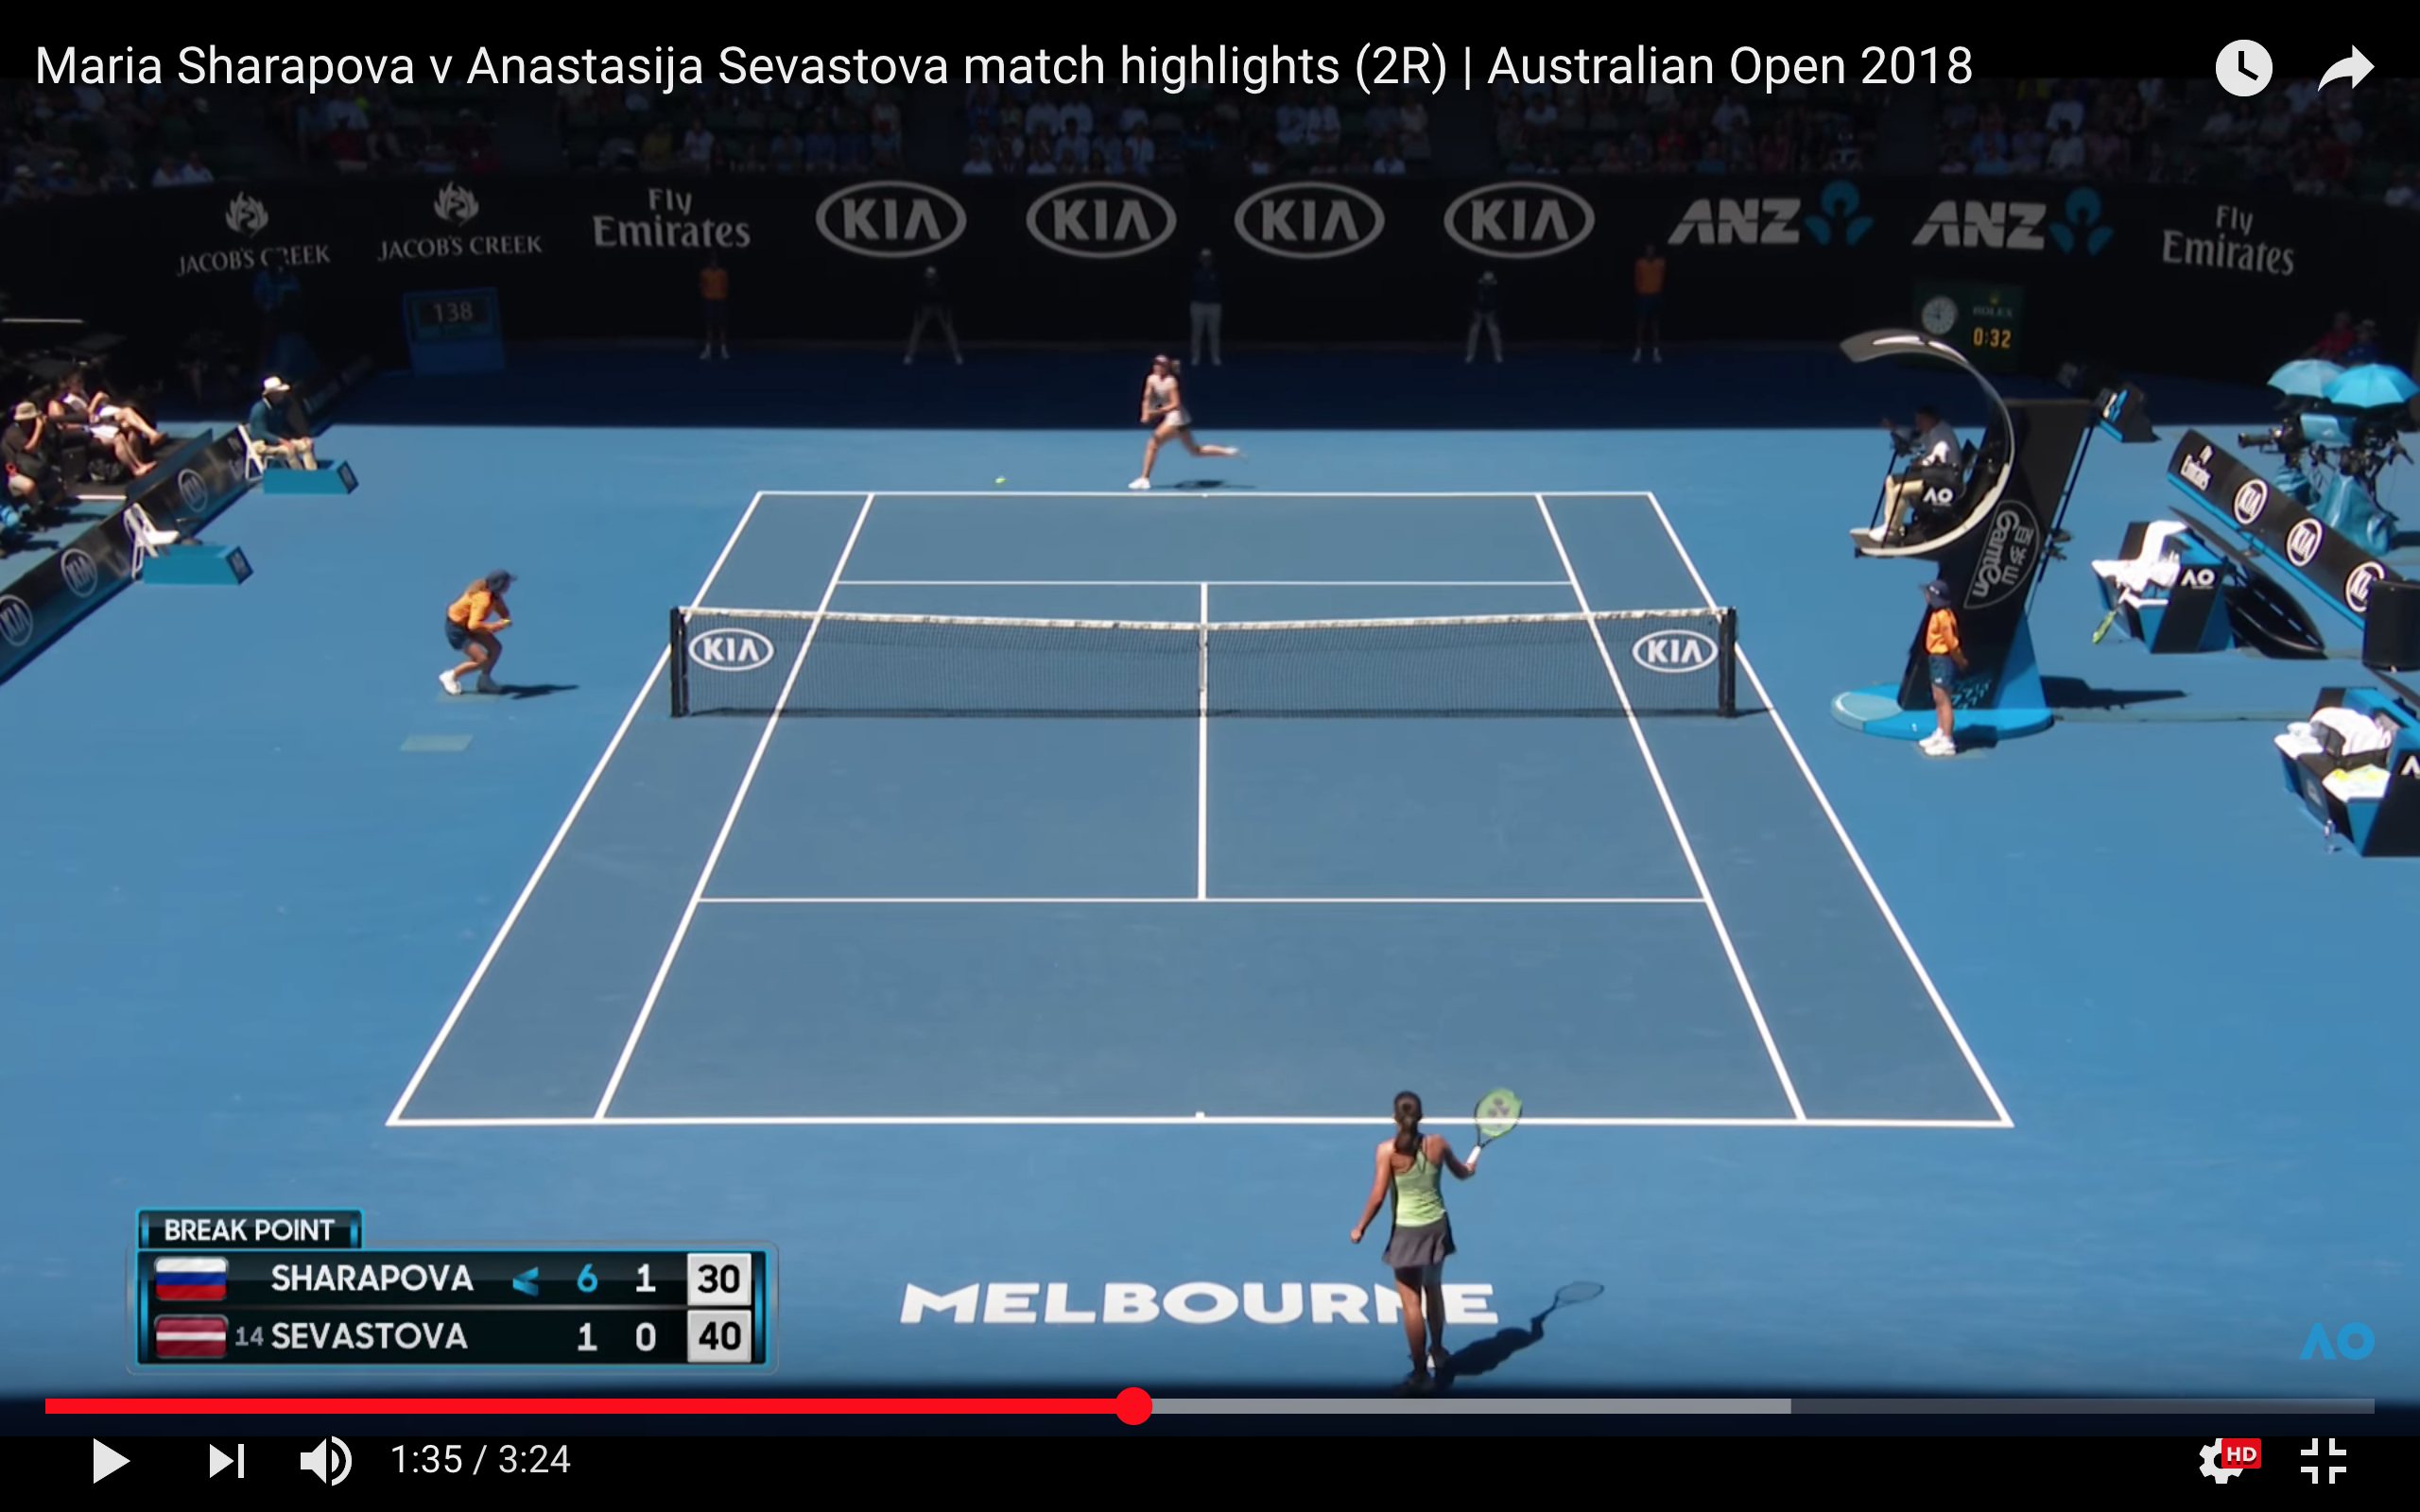tennis ball: (986, 468, 1014, 493)
tennis player: (1336, 1084, 1495, 1393), (1123, 347, 1253, 495)
